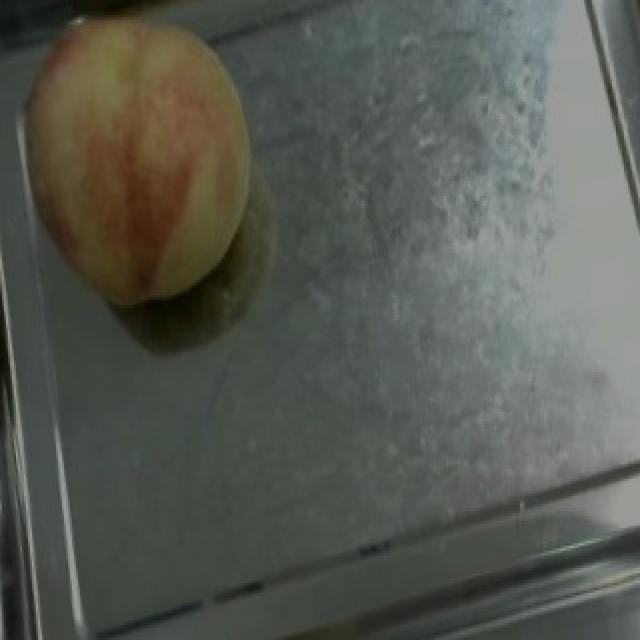Fruit: (0, 0, 274, 325)
